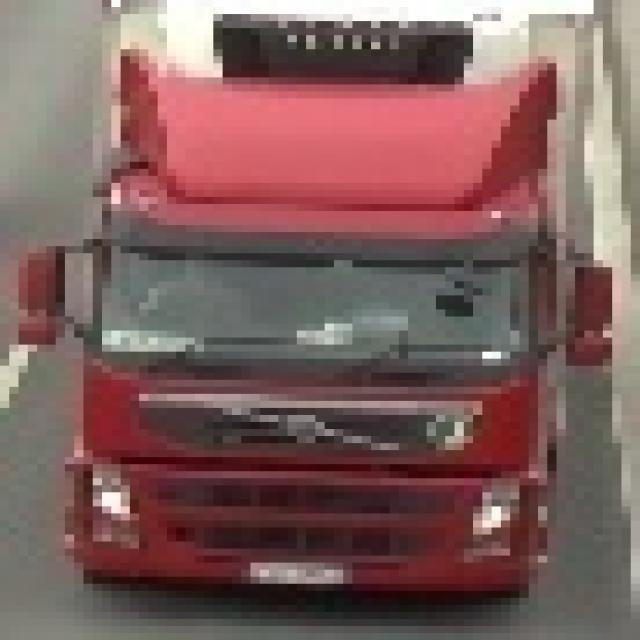Truck: (9, 0, 603, 605)
